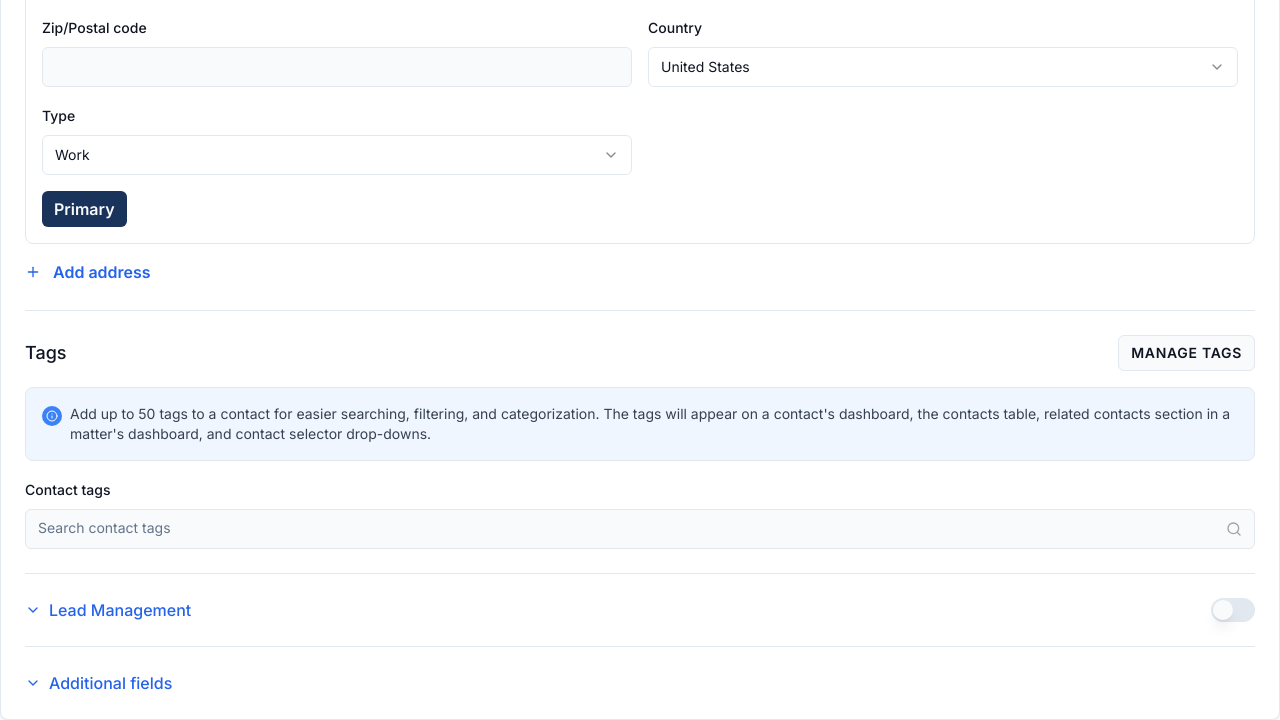
Test: Lead Management System Tests with Mock Data › UI Component Tests › AddClient Form - Lead Management Section
(page scrolled)
Check: the text "Lead Status" is not shown
Click to show lead management
What coordinates should you click on to do the following:
click the button "Lead Management"
I would click on:
 (108, 610)
Its box is 25,598 -> 191,622.
(page scrolled)
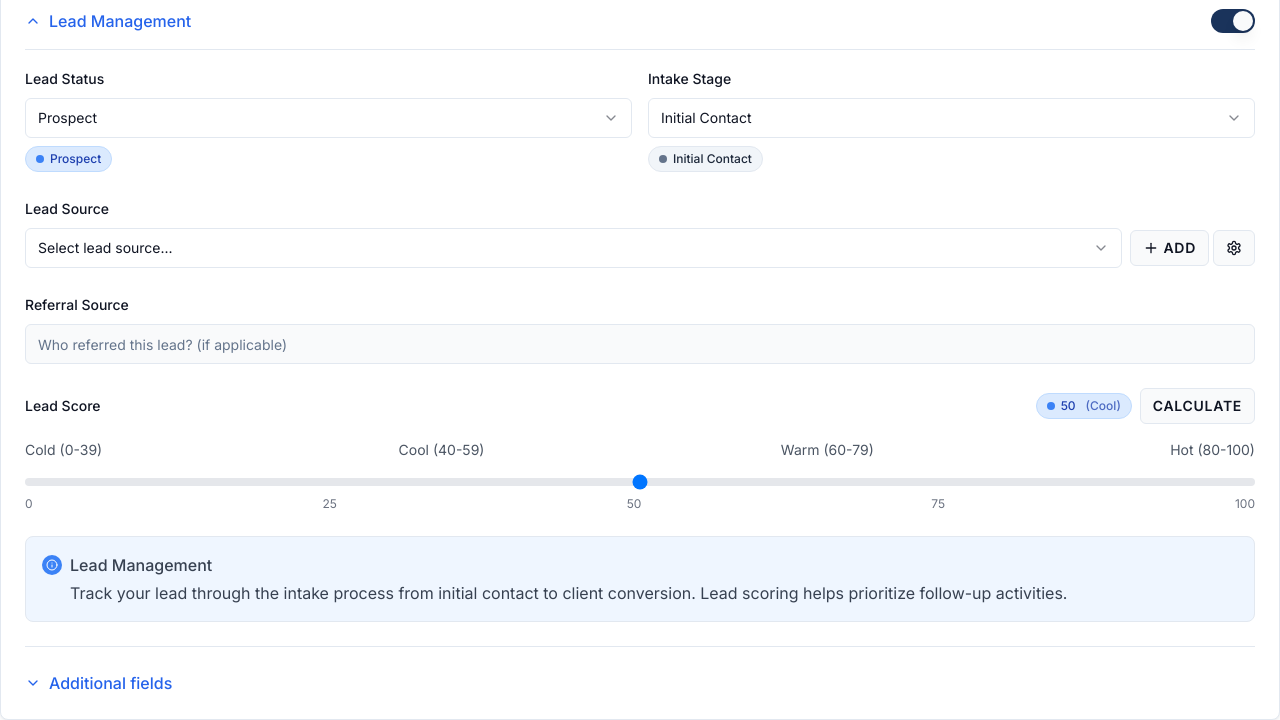
Check: the text "Lead Status" is shown, box 25,70 -> 104,87
Check: the text "Intake Stage" is shown, box 648,70 -> 731,87
Check: the text "Lead Source" is shown, box 25,200 -> 109,217
